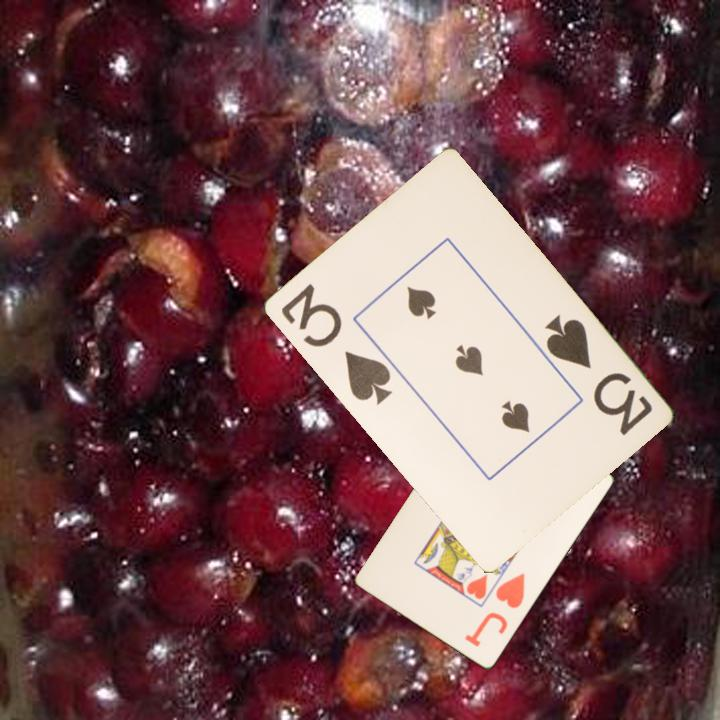3s: (276, 280, 395, 408), (540, 311, 655, 439)
Jh: (461, 570, 528, 650)
